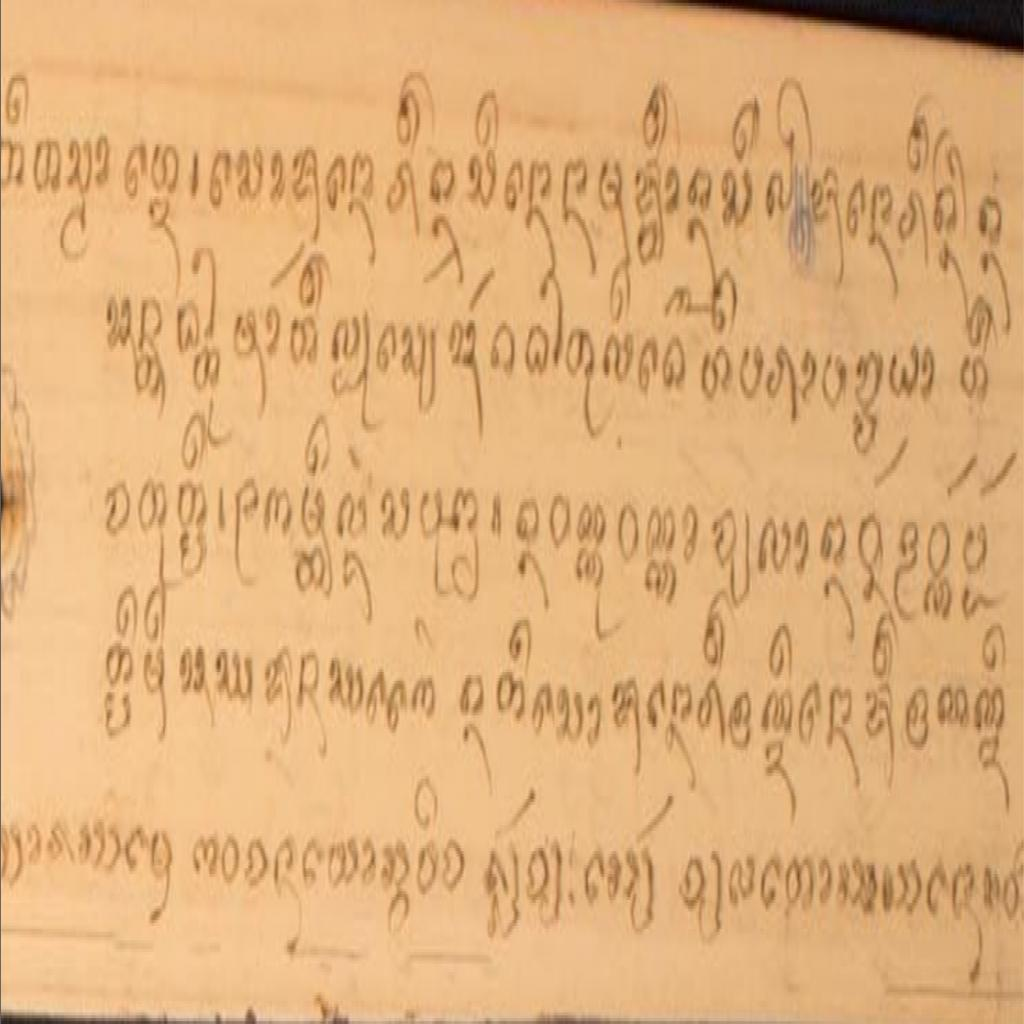LN012: (215, 643, 256, 711)
